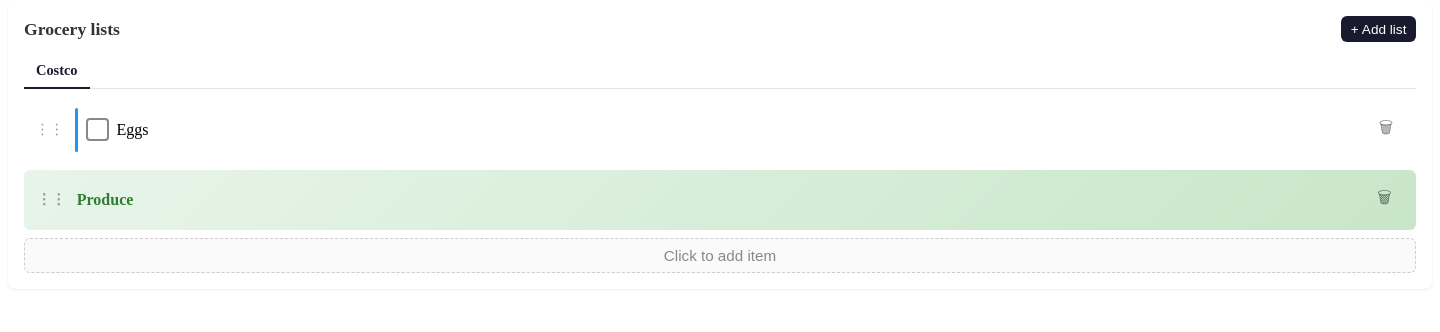
Test: GroceryLists item delete flow › shows an error banner when delete fails
Expected: the button "Eggs" is shown, [116,121,148,138]
Click the button named "Delete". click: (1386, 130)
box: [1364,108,1408,152]
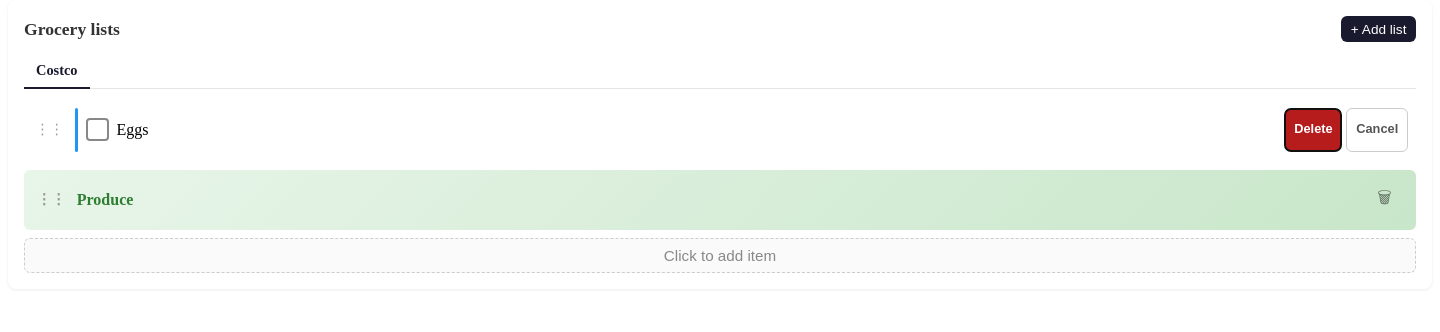
Click the button with aria-label "Confirm delete". click: (1313, 130)
box: [1284,108,1342,152]
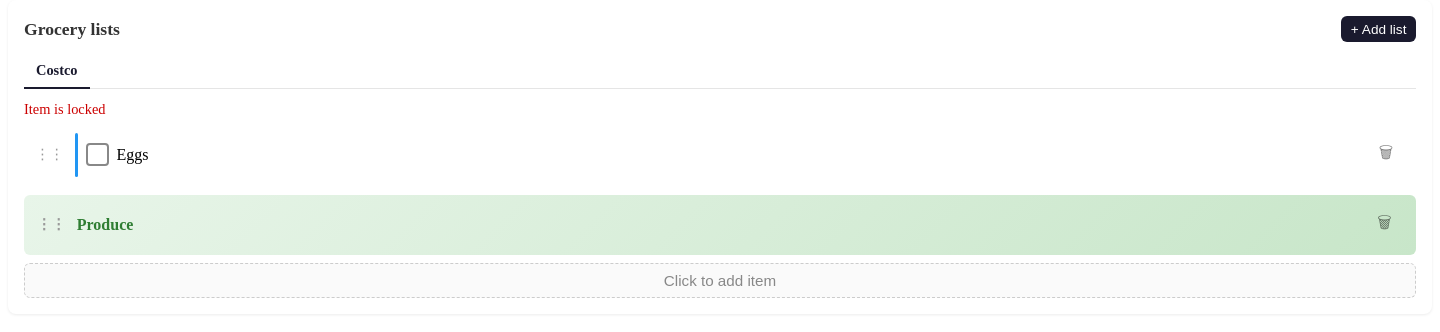
Expected: the button "Eggs" is shown, [116,146,148,163]
Now the text "Item is locked" is shown, box [24,101,106,117]
